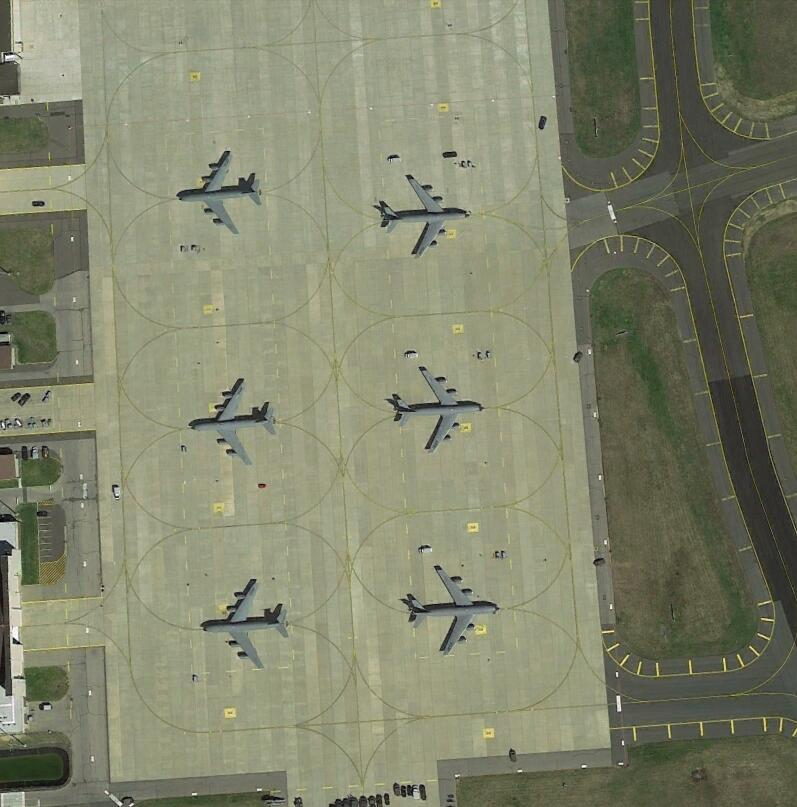A14: (197, 570, 295, 671), (402, 562, 502, 657), (390, 368, 487, 452), (377, 174, 471, 258), (190, 377, 277, 467), (176, 153, 269, 237)
